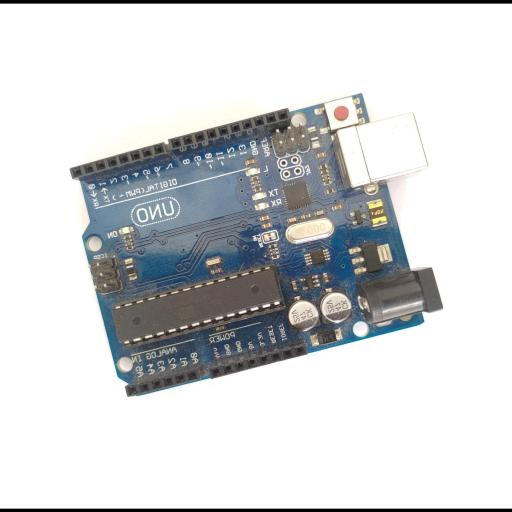Arduino Uno R3: (68, 92, 444, 398)
